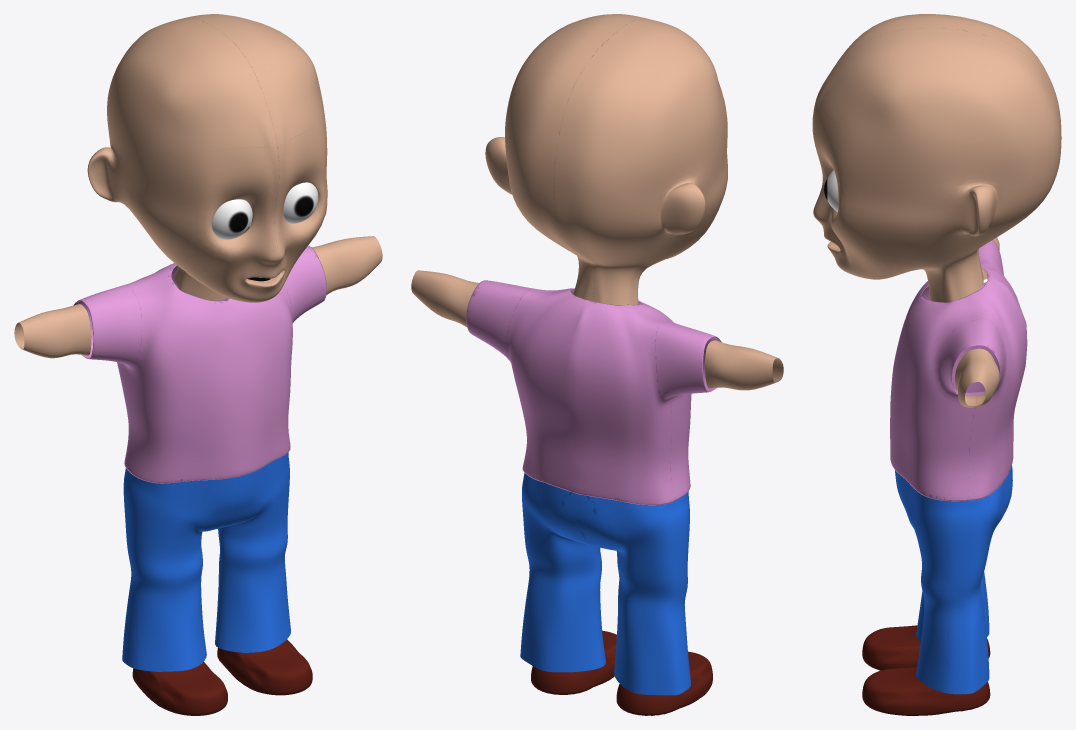
The picture shows the model from 3 angles, left to right: view 1: azimuth 30°, elevation 25°; view 2: azimuth 150°, elevation 25°; view 3: azimuth 270°, elevation 25°; orthographic projection.
Visible parts, largest first — view 1: Character, eyeROuter, eyeLOuter; view 2: Character; view 3: Character, eyeLOuter.
Boxes of the visible parts, left/top/right/bottom form: Character: left=14, top=14, right=382, bottom=715; eyeROuter: left=212, top=199, right=252, bottom=239; eyeLOuter: left=283, top=182, right=318, bottom=223; Character: left=411, top=14, right=783, bottom=715; Character: left=812, top=14, right=1061, bottom=715; eyeLOuter: left=824, top=170, right=838, bottom=211.
Size of the model in its own units: 691 by 1197 by 414.
3 materials, 3 textured.
